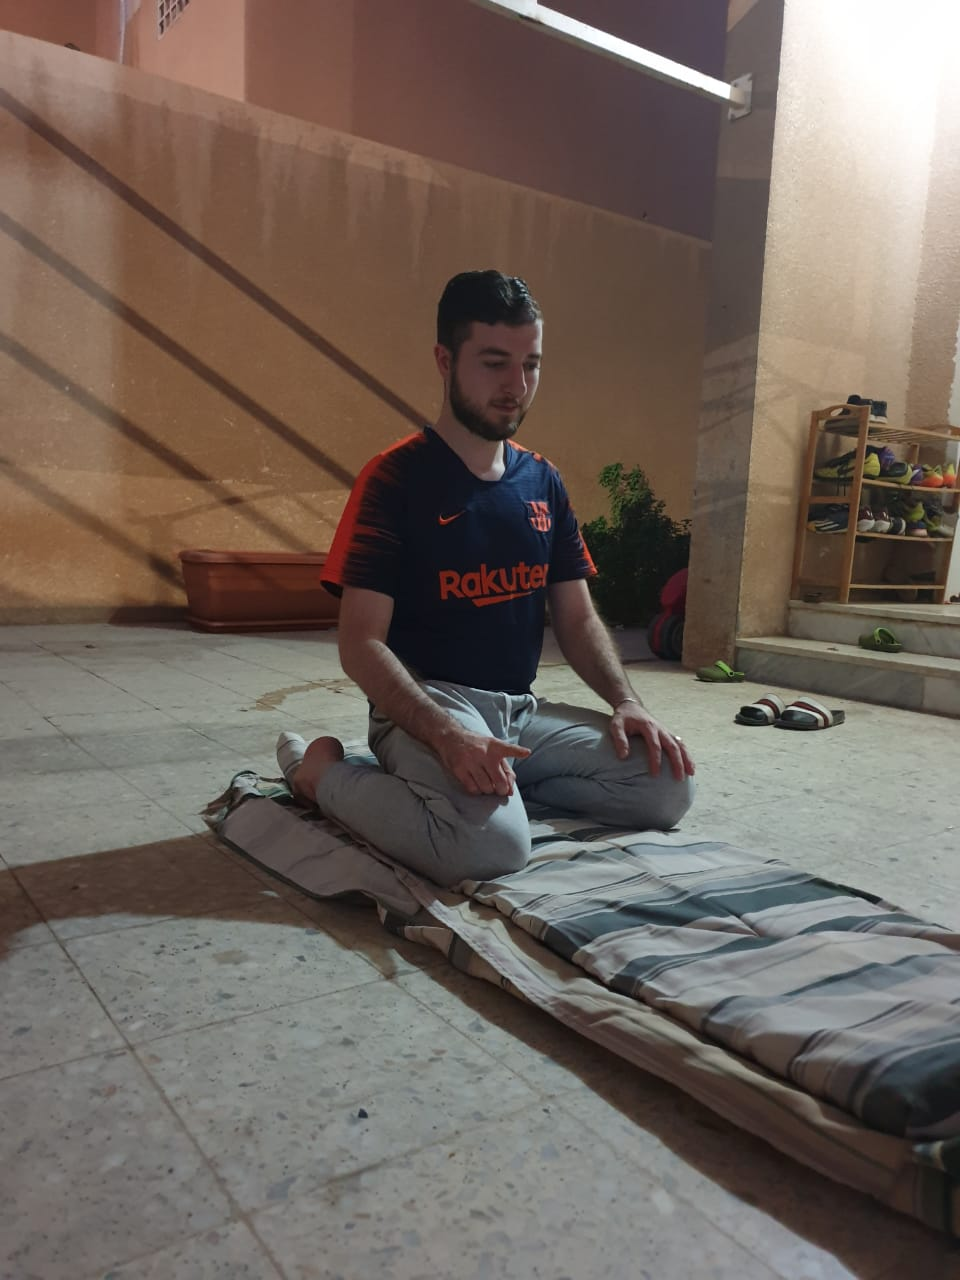sitting: (263, 248, 743, 888)
